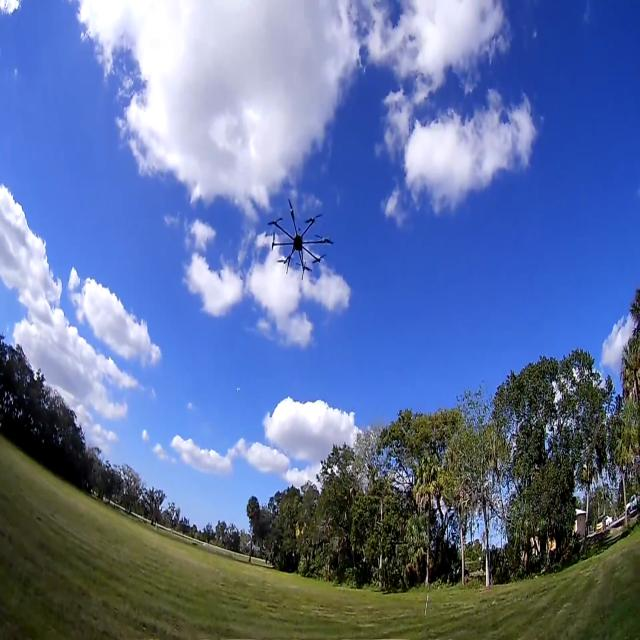drone: (264, 171, 346, 283)
